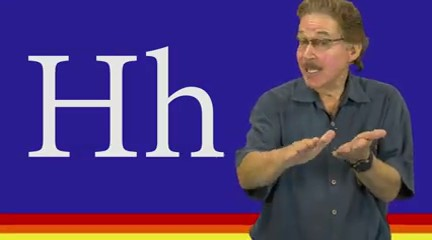H: (282, 127, 389, 173)
